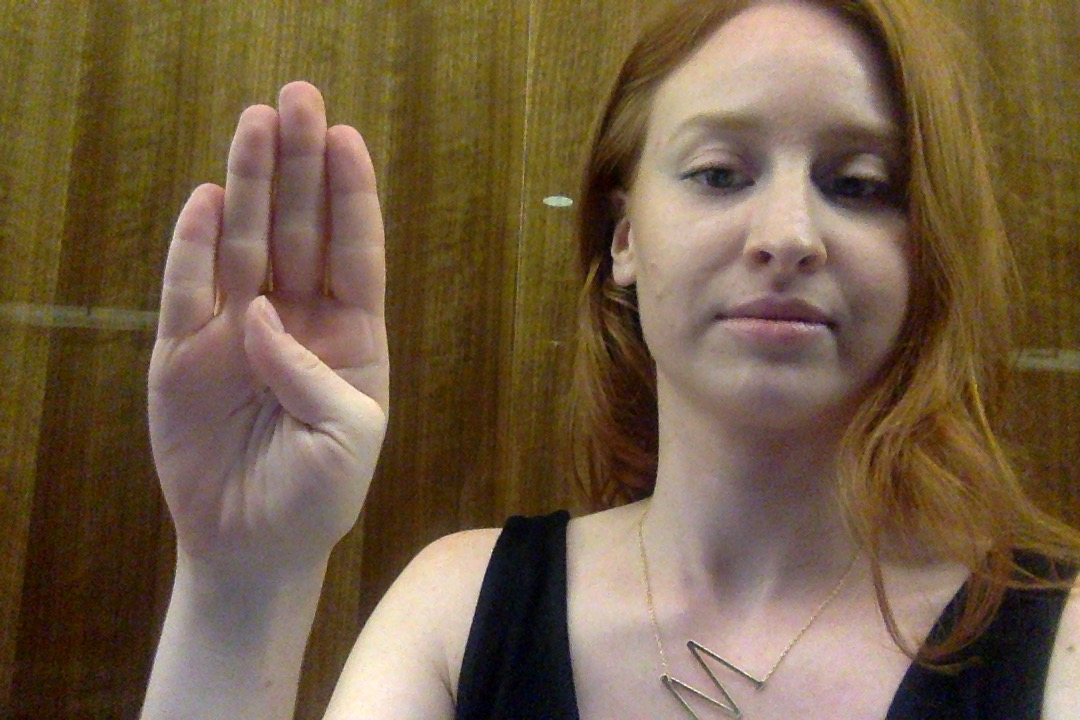b: (134, 70, 402, 567)
